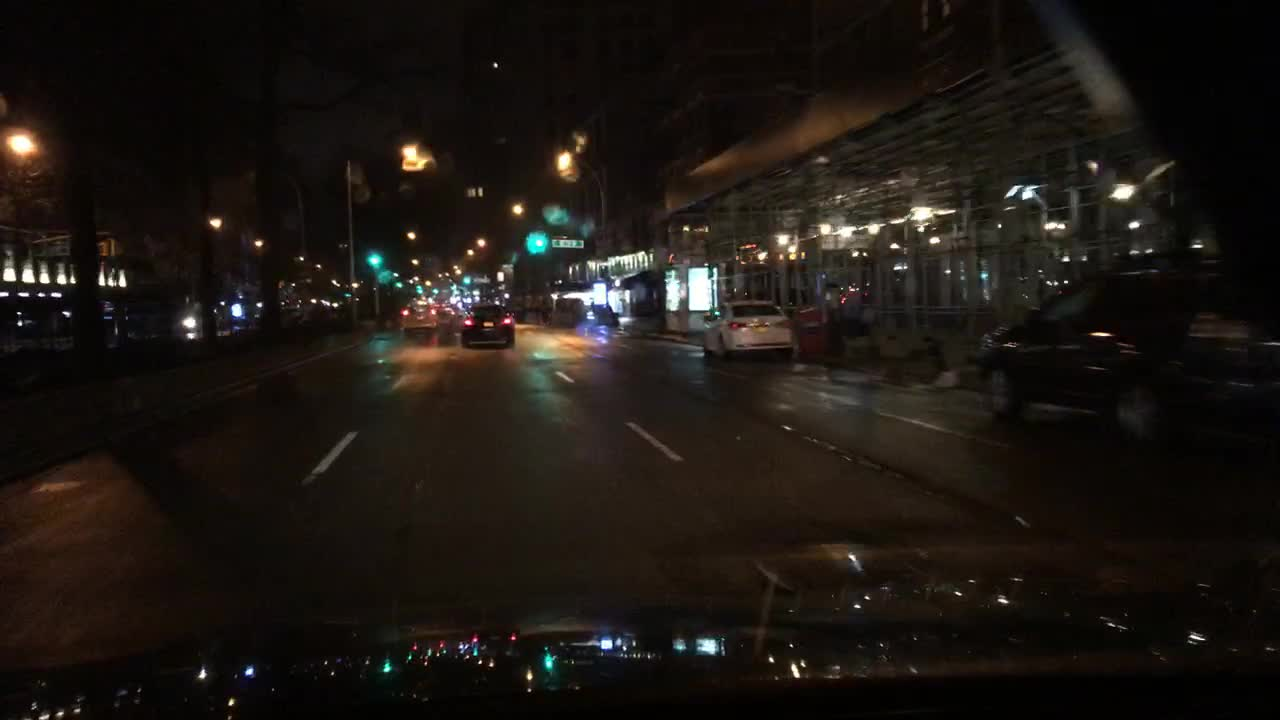car: (973, 243, 1279, 448), (700, 301, 796, 359), (460, 303, 516, 346), (396, 299, 443, 332), (226, 292, 272, 322), (170, 310, 223, 336), (439, 304, 459, 332)
traffic light: (534, 231, 544, 250), (368, 249, 378, 266)
traffic sign: (551, 238, 586, 248)
